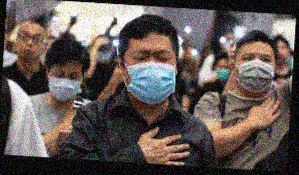with_mask: (123, 45, 175, 103), (232, 48, 275, 95), (46, 66, 82, 103), (97, 48, 114, 65), (216, 61, 230, 80)
without_mask: (16, 28, 44, 61), (274, 42, 290, 65)
